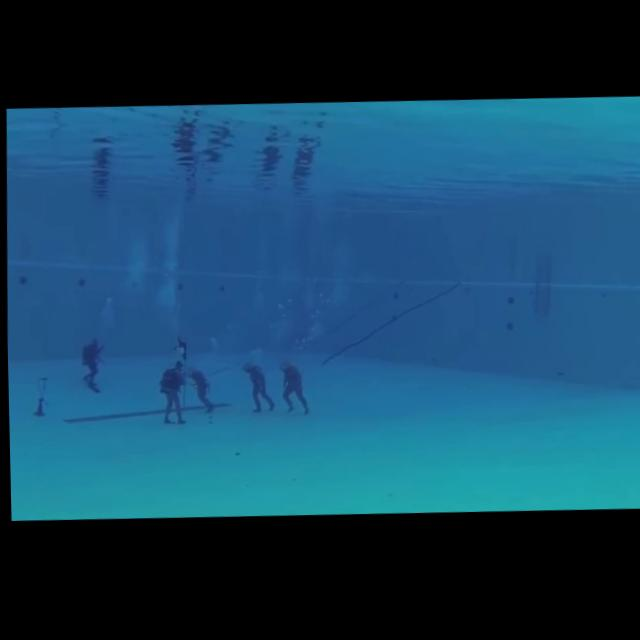human: (270, 354, 319, 423), (235, 358, 279, 421), (177, 361, 220, 422), (153, 357, 185, 431), (74, 333, 107, 398)
